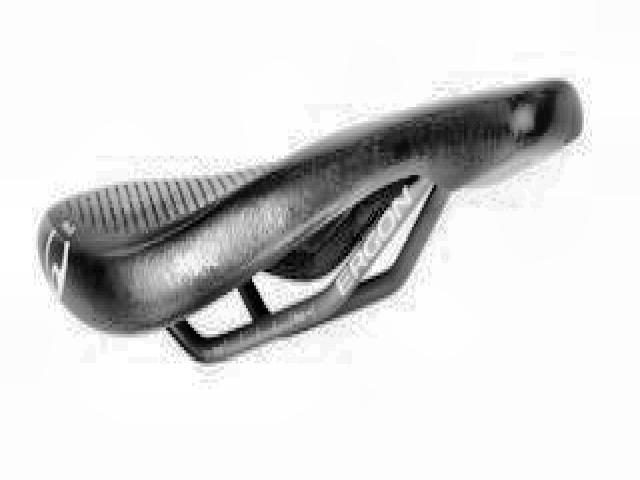saddle: (37, 74, 585, 374)
